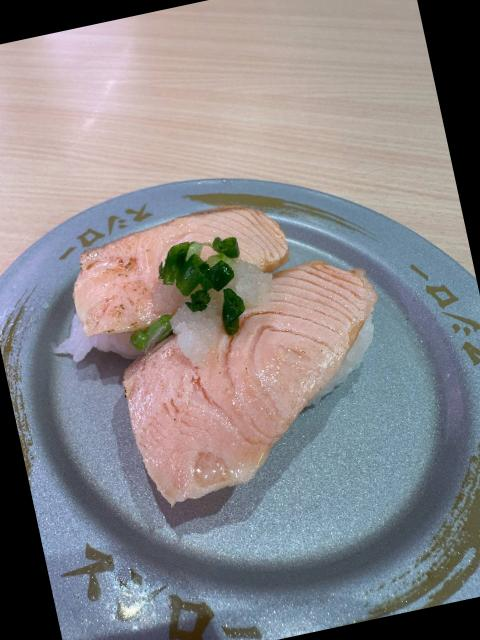janwhite: (10, 161, 459, 640)
